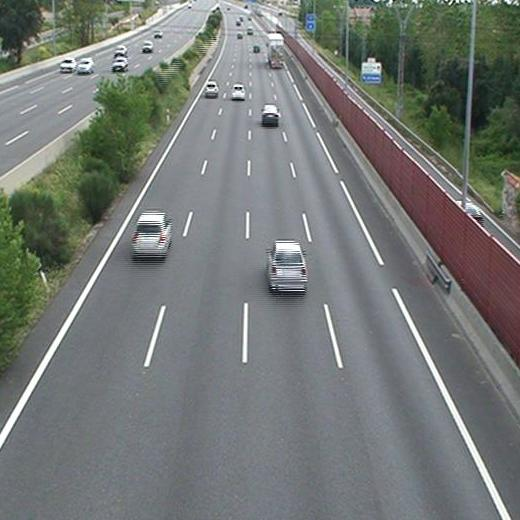car: (266, 242, 307, 290), (132, 213, 171, 255), (261, 105, 279, 123), (205, 82, 219, 96), (232, 85, 245, 98)
truck: (267, 34, 283, 66)
